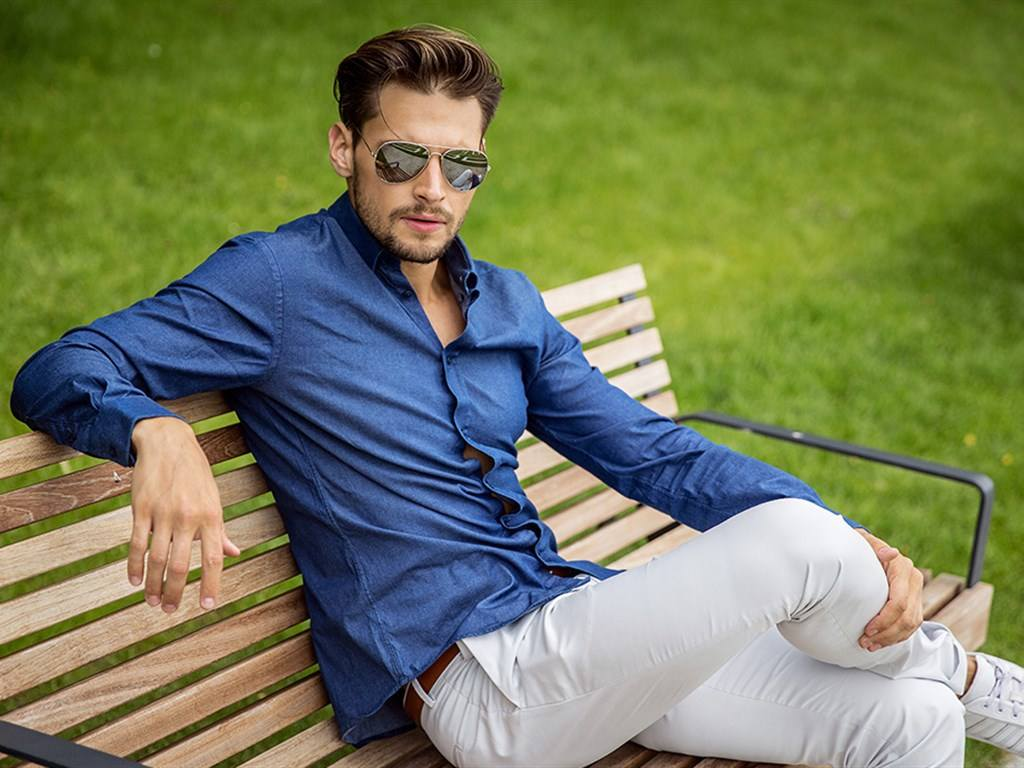person: (87, 67, 1024, 748)
